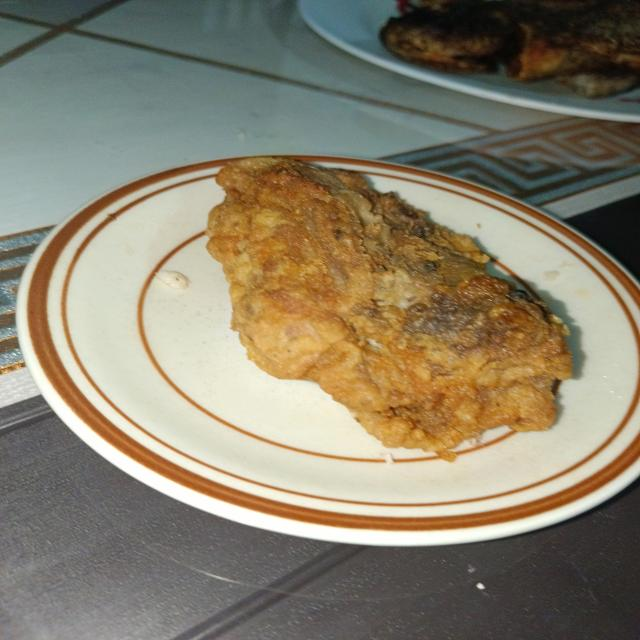Chicken -Fried Chicken-: (194, 149, 591, 461)
